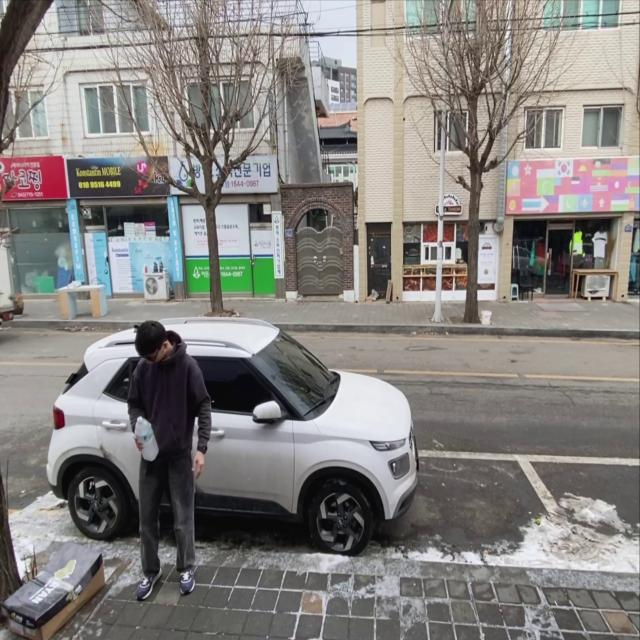bare_hand: (189, 451, 209, 480), (134, 437, 146, 455)
